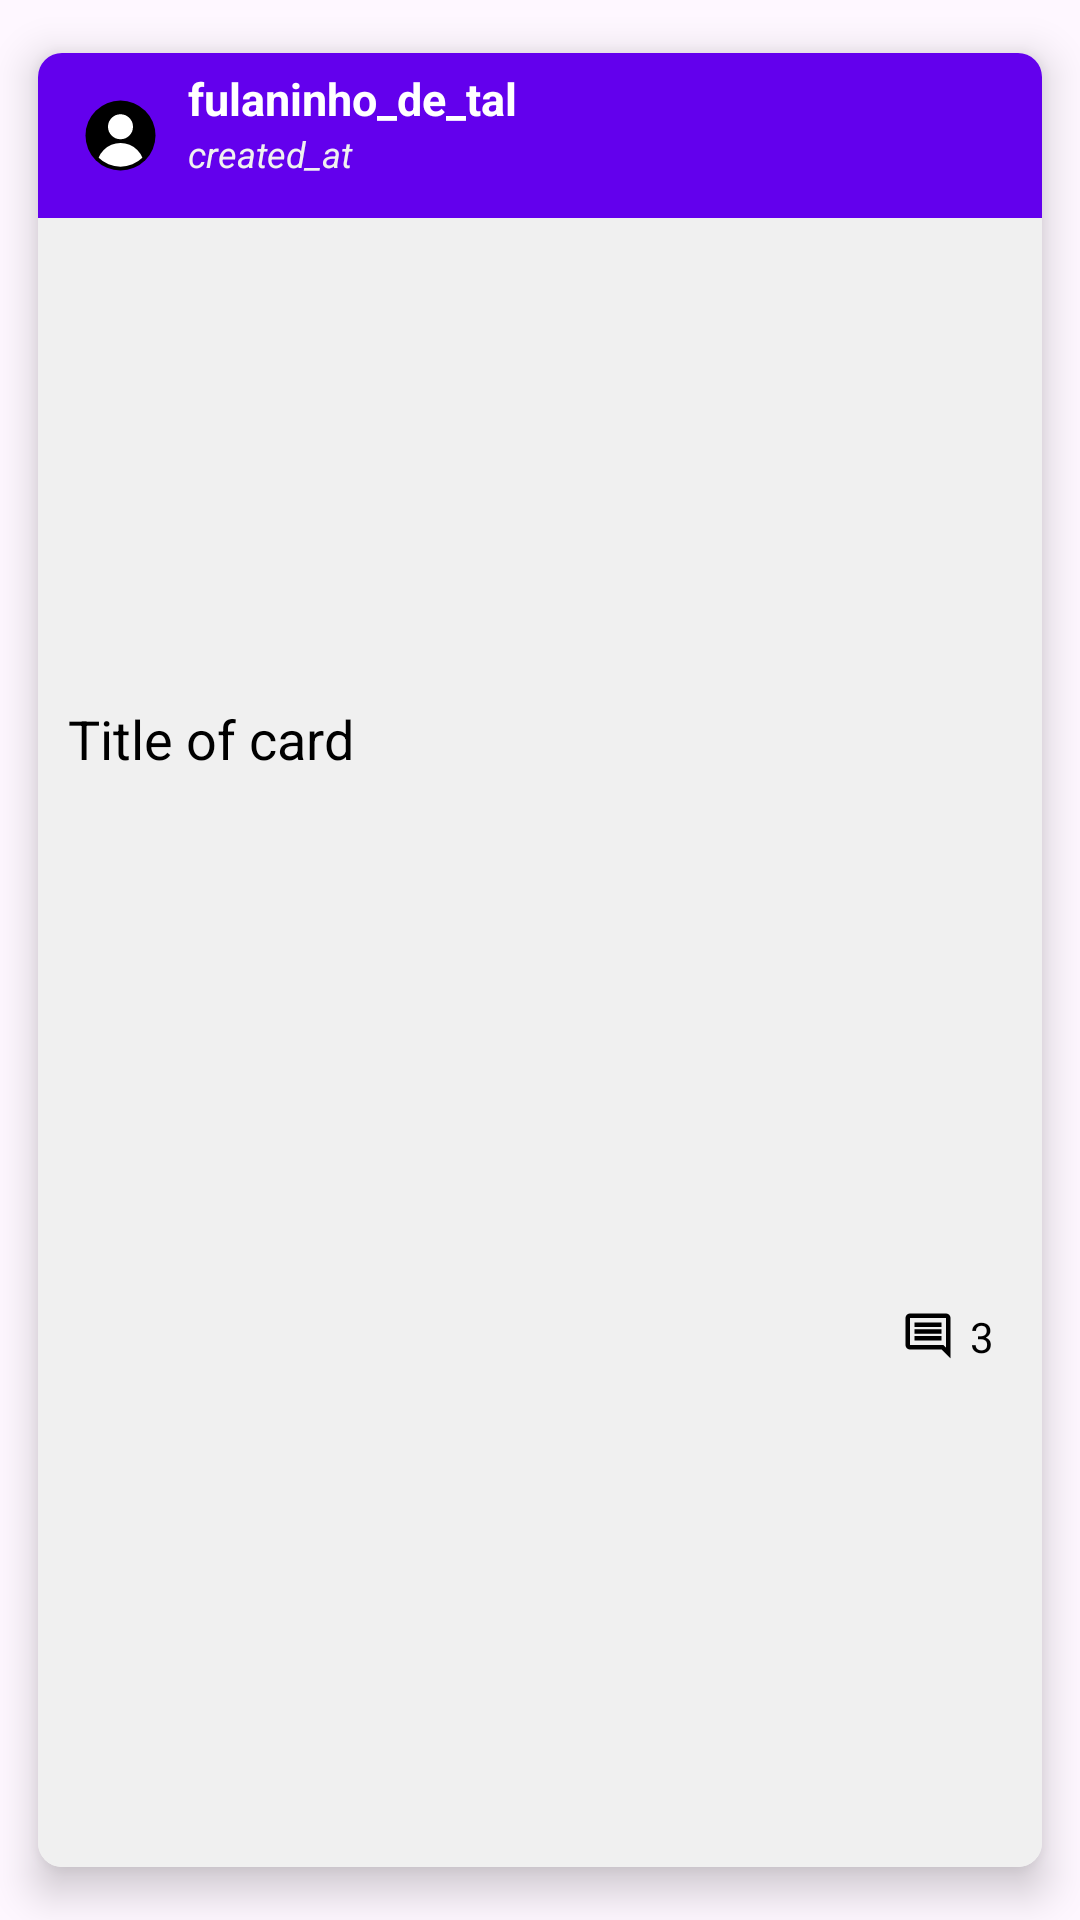

Icon click points for this 1080x1920 phone screenshot, format [x,y]:
profile: [120,135]
